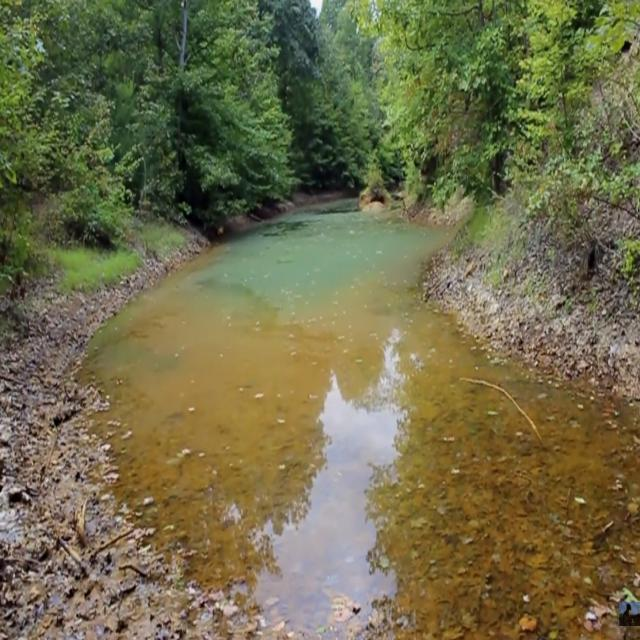yellow_boy: (82, 238, 640, 639)
